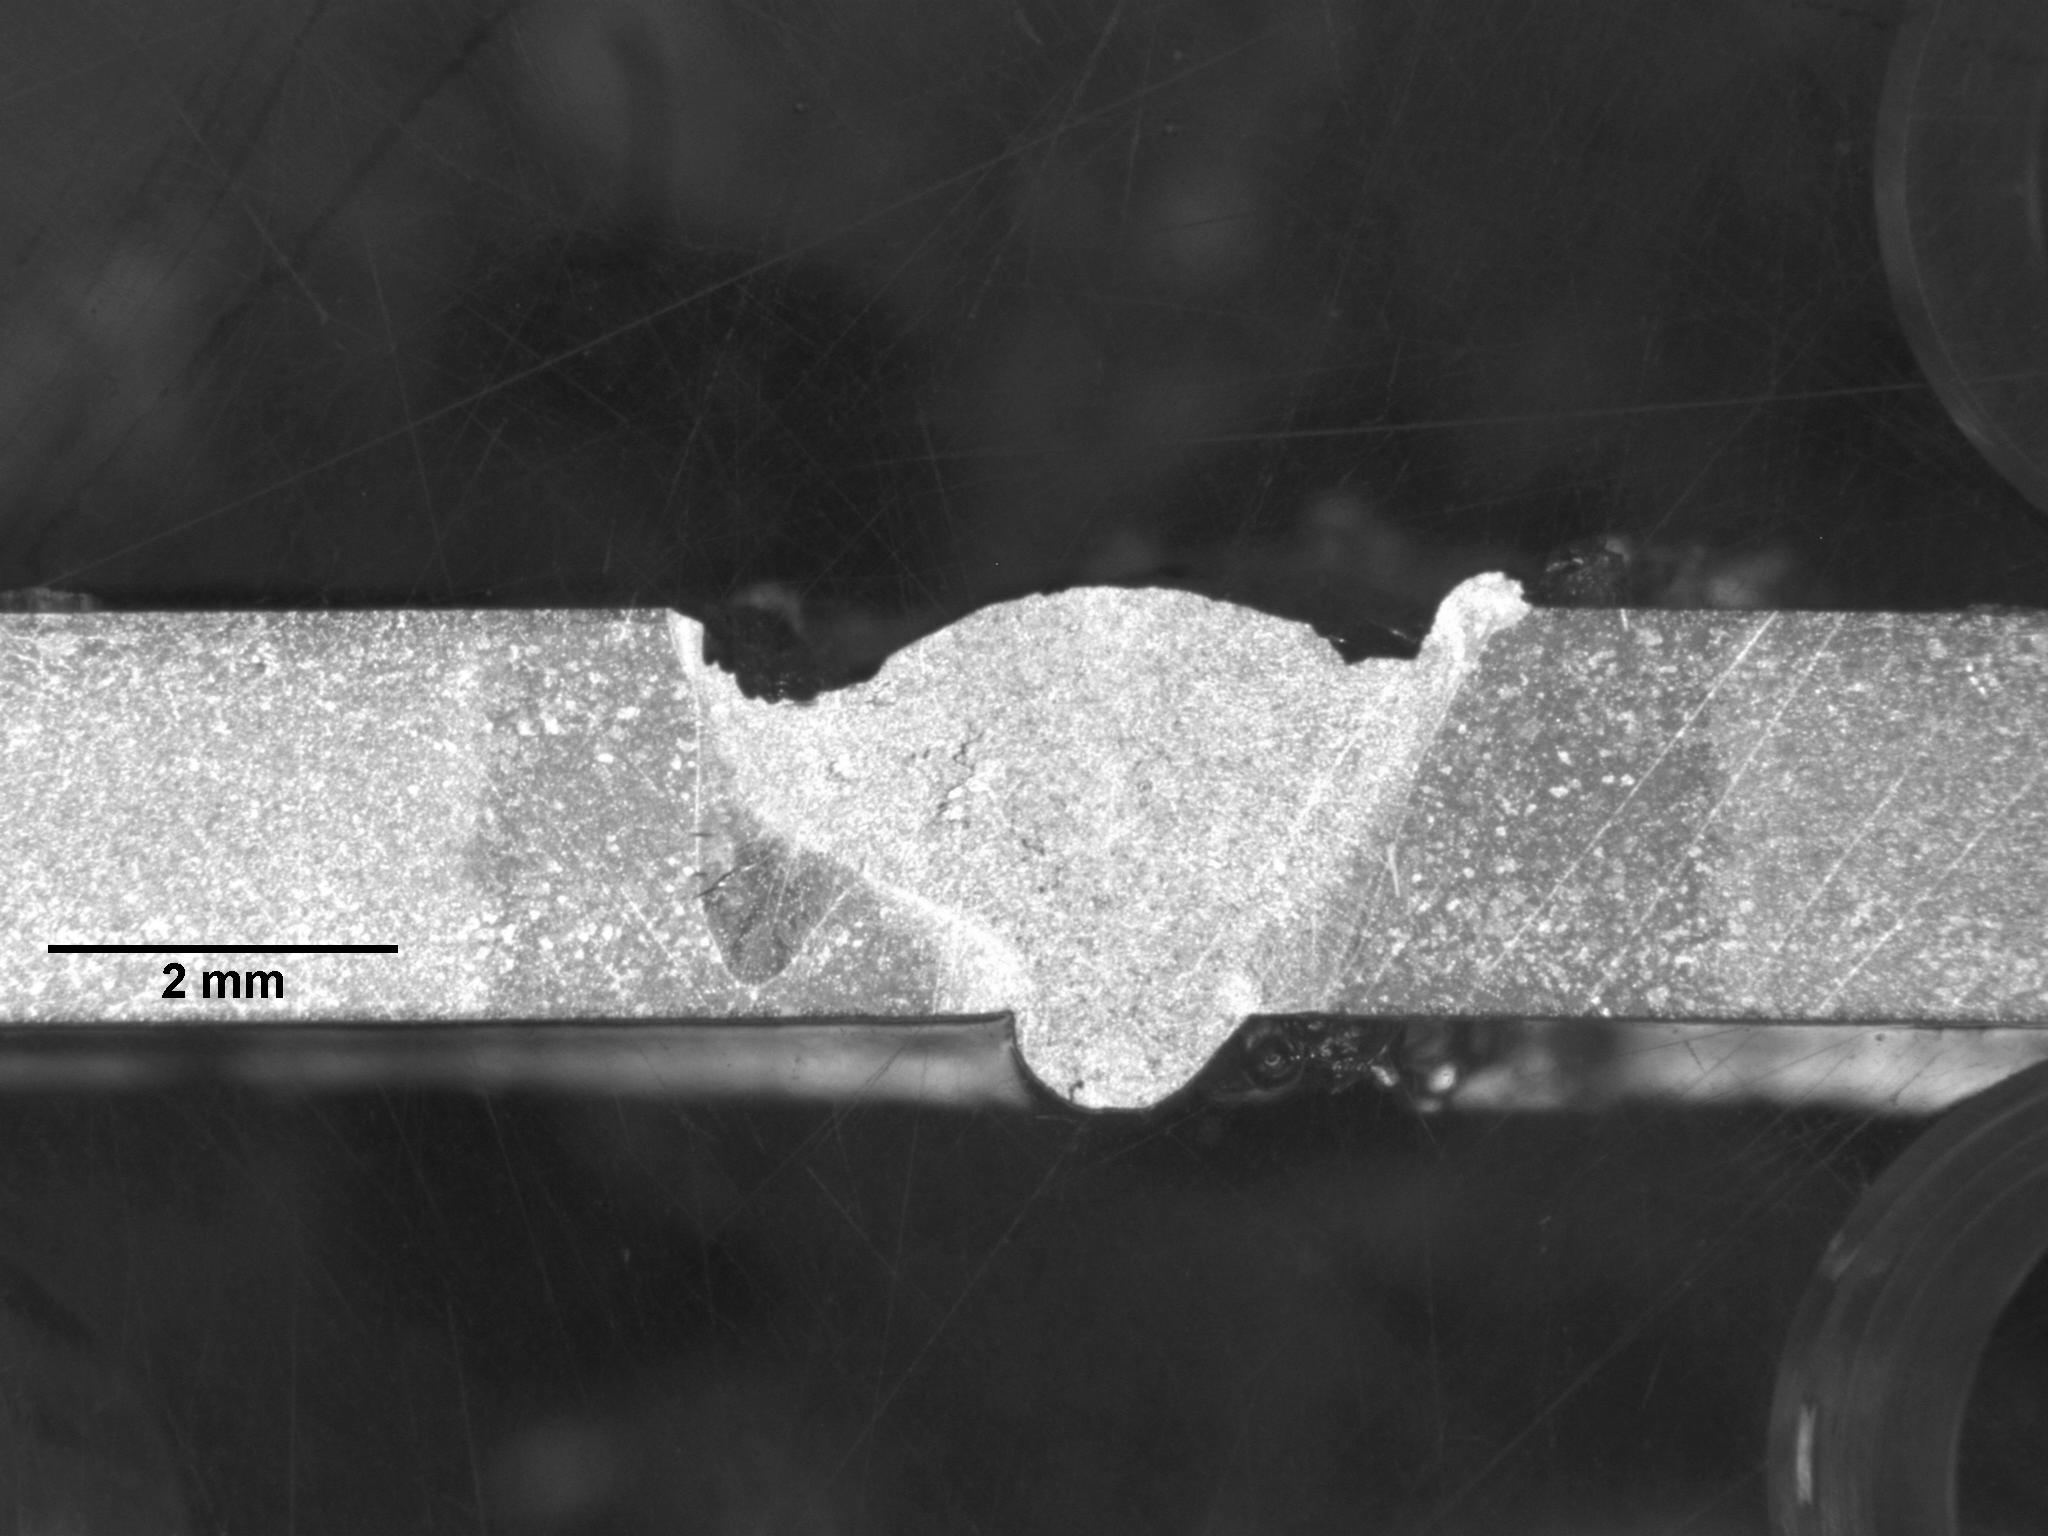Scale-bar: (39, 934, 411, 1007)
